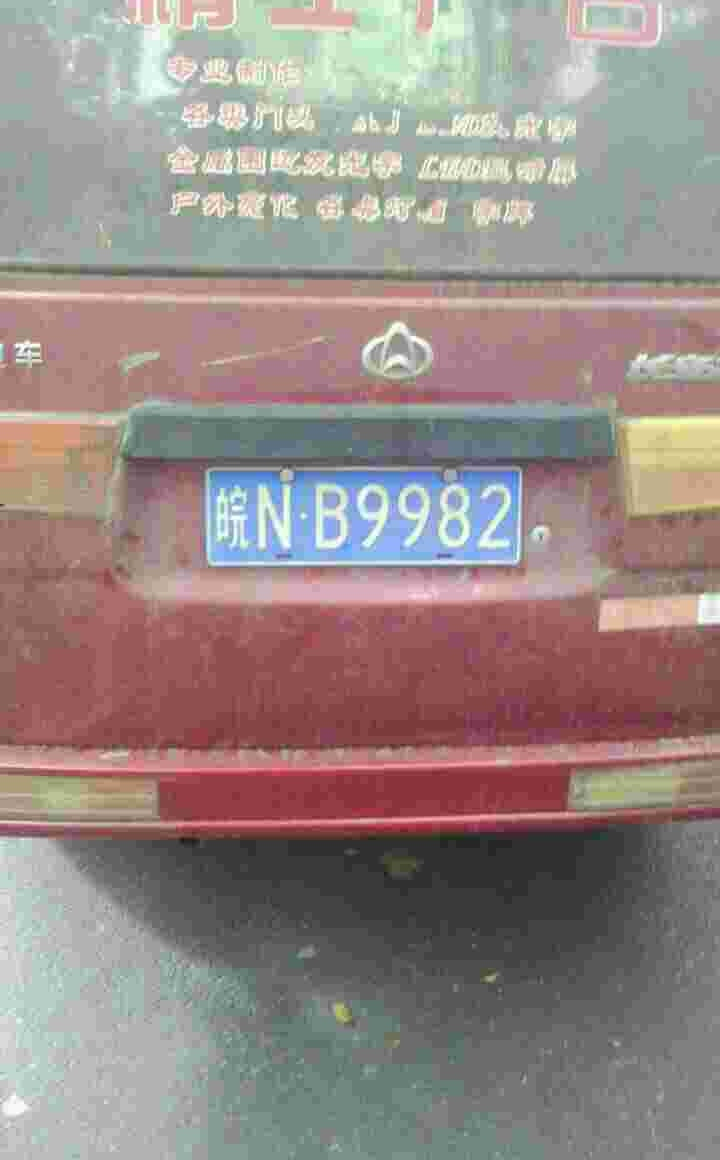license_plate: (215, 468, 527, 567)
